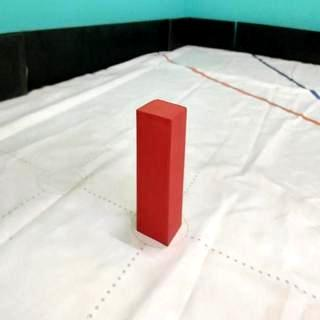redbox: (137, 96, 187, 248)
